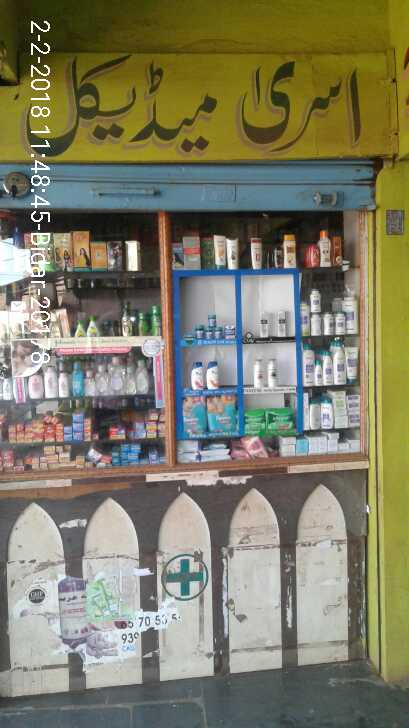beauty: (188, 362, 204, 391), (267, 357, 277, 387), (206, 361, 217, 388), (275, 309, 285, 338), (253, 356, 262, 386), (259, 312, 268, 338), (222, 323, 234, 339), (192, 323, 204, 339), (206, 313, 216, 327), (212, 326, 222, 338), (204, 328, 213, 339)
pharmacy: (206, 395, 237, 430), (181, 396, 206, 433), (263, 406, 294, 428), (244, 411, 264, 430)
